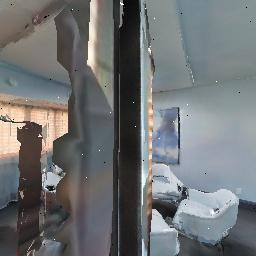chair: (165, 181, 241, 252)
